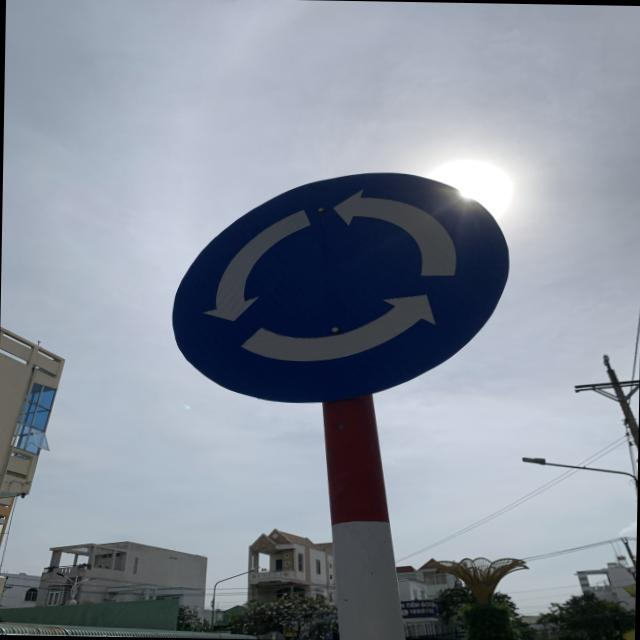Xe_Bus: (168, 168, 514, 410)
